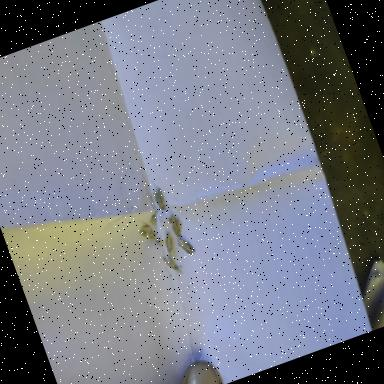pbw: (176, 232, 198, 259), (136, 218, 158, 243), (151, 186, 171, 212), (168, 213, 187, 238), (161, 251, 180, 273), (162, 231, 178, 254)
